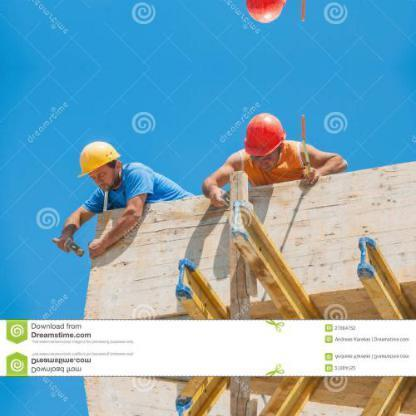helmet: (237, 109, 292, 159), (70, 129, 122, 179)
